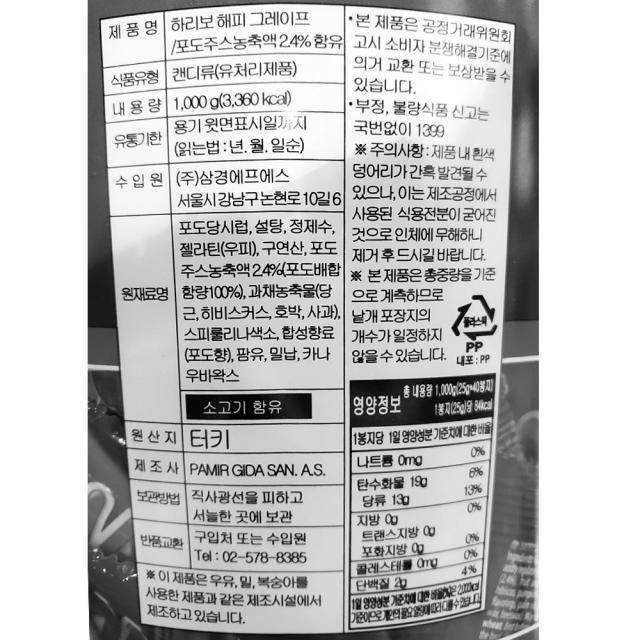Nutrition Label: (351, 375, 505, 634)
